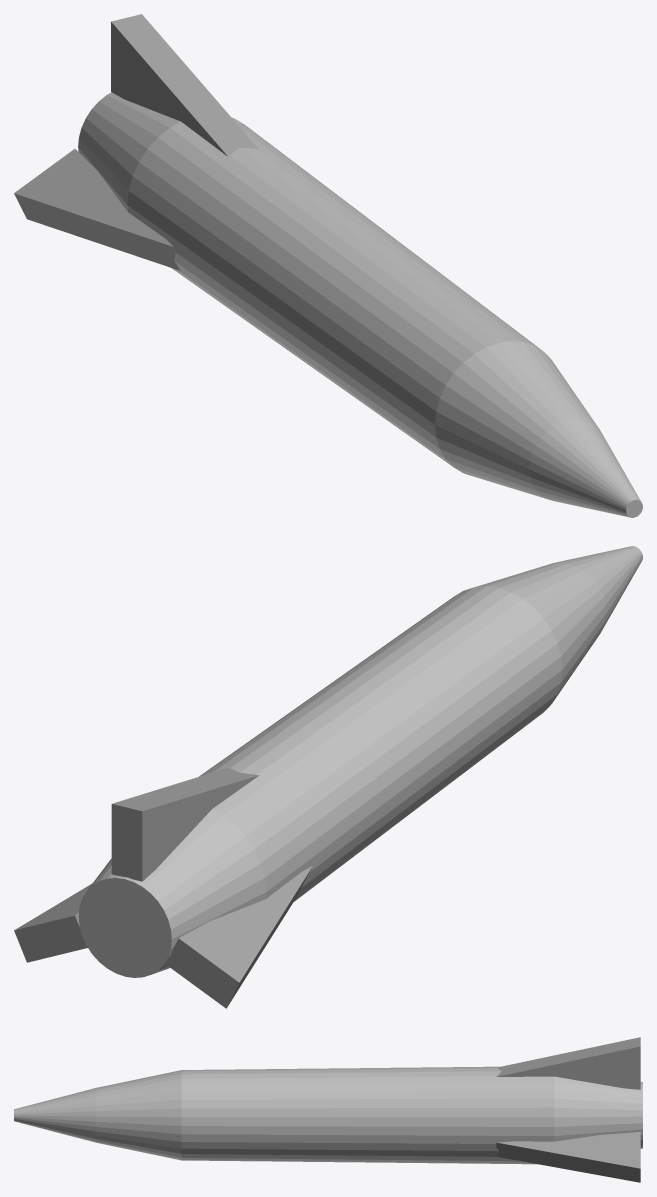
The model's file is missile.obj.
The picture shows the model from 3 angles, top to bottom: view 1: azimuth 30°, elevation 25°; view 2: azimuth 150°, elevation 25°; view 3: azimuth 270°, elevation 25°; orthographic projection. The views are drawn at different scales.
Parts seen in each view (by area): view 1: body; view 2: body; view 3: body.
Boxes of the visible parts, x1,y1,x2,y2 form: body: (14, 14, 642, 517); body: (14, 546, 642, 1008); body: (14, 1037, 642, 1182).
Size of the model in its own units: 0.4909 by 0.3981 by 1.92.
